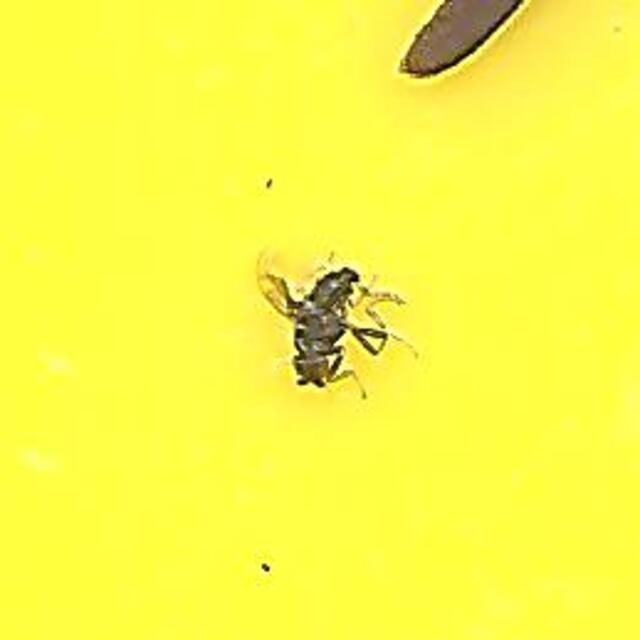Brachycera: (247, 245, 393, 395)
